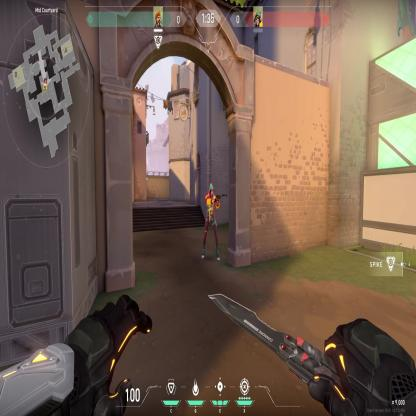enemy: (200, 179, 223, 263)
